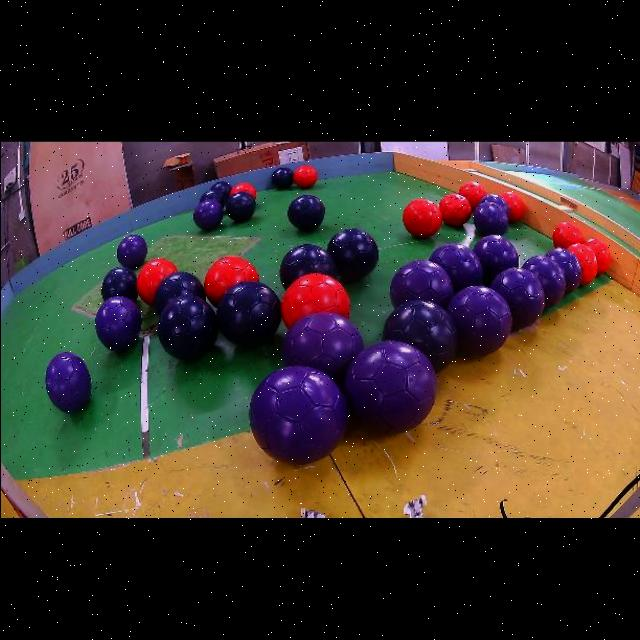B: (382, 298, 456, 370), (216, 278, 280, 344), (156, 293, 217, 359), (326, 226, 378, 280), (279, 242, 336, 287), (153, 269, 205, 312), (287, 193, 324, 230), (101, 264, 138, 300), (225, 189, 255, 219), (271, 166, 293, 188), (199, 187, 225, 205), (211, 179, 230, 198)
P: (249, 364, 347, 463), (343, 338, 436, 432), (281, 310, 362, 384), (446, 283, 511, 354), (489, 265, 544, 326), (388, 259, 453, 306), (45, 350, 90, 410), (428, 242, 481, 291), (94, 294, 140, 349), (472, 232, 518, 282), (522, 253, 565, 305), (545, 246, 581, 291), (472, 200, 507, 234), (117, 232, 147, 266), (192, 197, 222, 229), (479, 192, 509, 214)
R: (280, 272, 349, 325), (203, 253, 258, 304), (136, 256, 177, 304), (402, 197, 441, 236), (566, 242, 596, 283), (438, 192, 471, 225), (583, 236, 611, 271), (552, 219, 582, 246), (458, 180, 485, 208), (500, 189, 523, 221), (293, 163, 317, 185), (229, 180, 255, 197)
